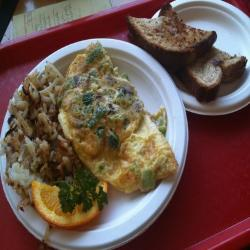bread: (125, 8, 250, 95)
omelette: (64, 40, 181, 201)
